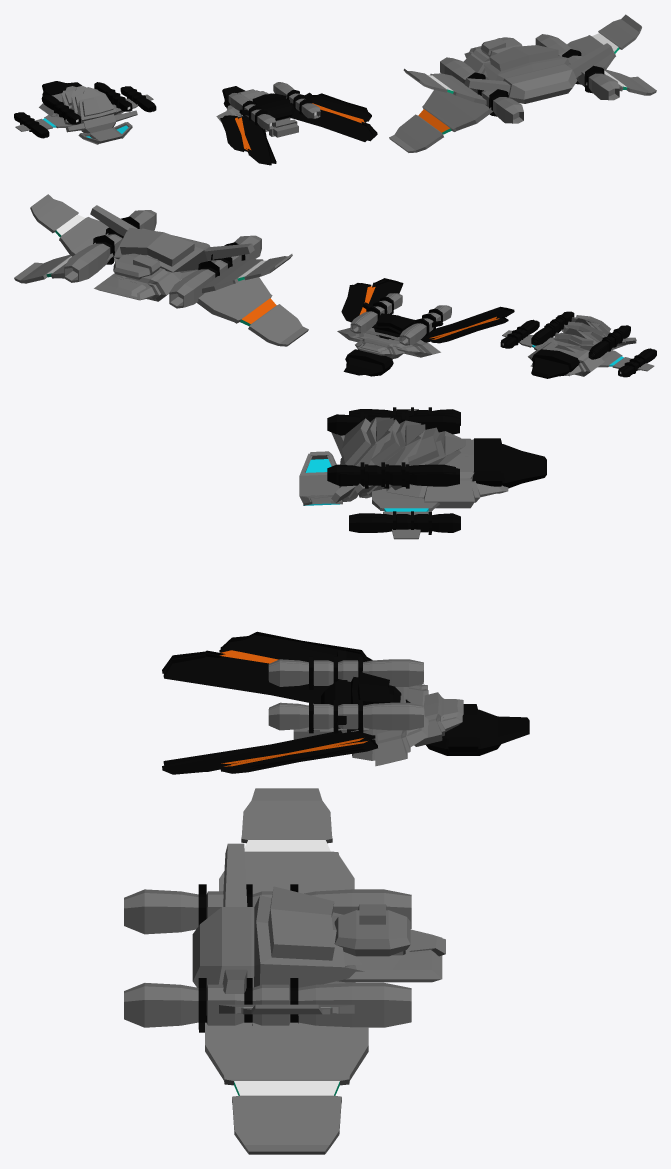
Rendered from spaceshipsnew.fbx.
3 views of the same model, one above another, from view 1: azimuth 30°, elevation 25°; view 2: azimuth 150°, elevation 25°; view 3: azimuth 270°, elevation 25° (orthographic). The views are drawn at different scales.
Parts seen in each view (by area): view 1: Cube.037, Cube.026, Cube.010; view 2: Cube.037, Cube.026, Cube.010; view 3: Cube.037, Cube.026, Cube.010.
Part boxes in pixels (x1,y1,x2,y2): Cube.037: (389, 14, 656, 152); Cube.026: (216, 82, 377, 165); Cube.010: (14, 81, 156, 144); Cube.037: (14, 194, 308, 346); Cube.026: (337, 278, 514, 376); Cube.010: (500, 311, 656, 378); Cube.037: (124, 788, 445, 1154); Cube.026: (162, 631, 529, 774); Cube.010: (299, 407, 546, 539).
Size of the model in its own units: 4026 by 691 by 1231.
